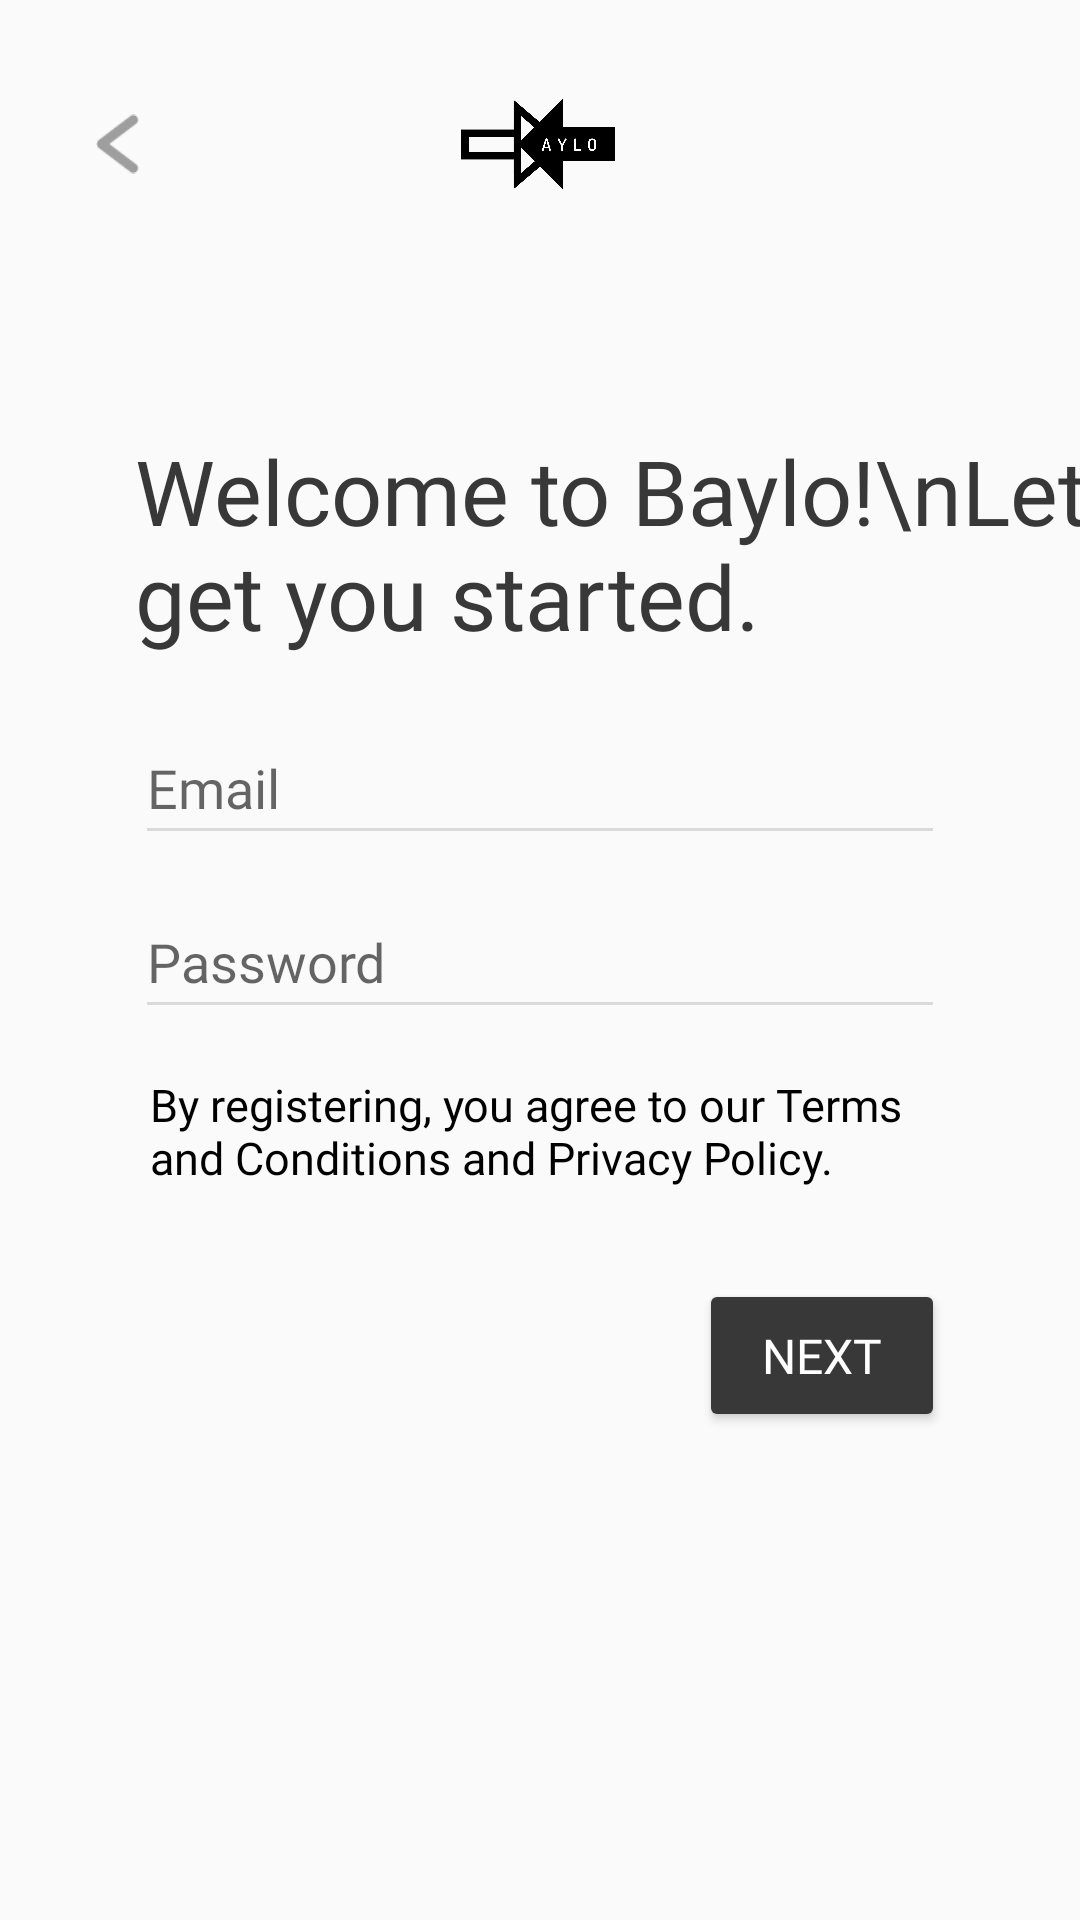

Screen size 1080 x 1920. Icon name, then its box in pixels as (x1, y1, x2, y2):
back arrow: (97, 114, 138, 174)
